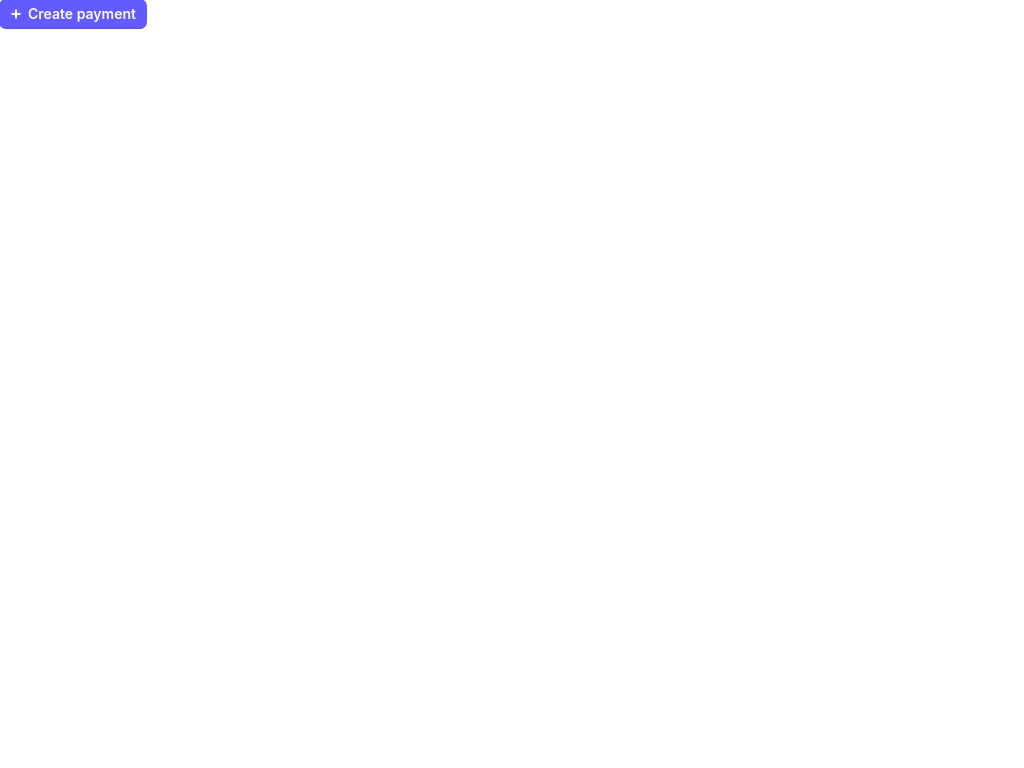
it: CreatePaymentButton › shows the API’s field errors on the matching inputs
Click the button with test id "create-payment". click: (73, 14)
box: [0, 0, 146, 28]
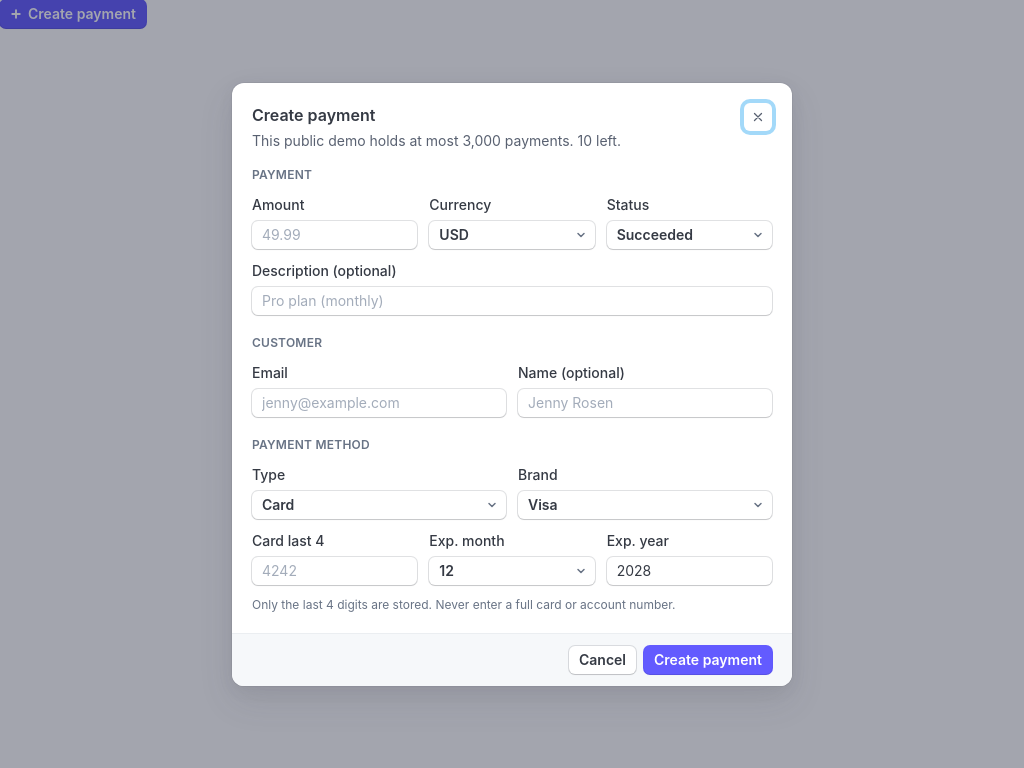
Type "10" into the field labelled "Amount". click: (335, 234)
box: [260, 220, 409, 248]
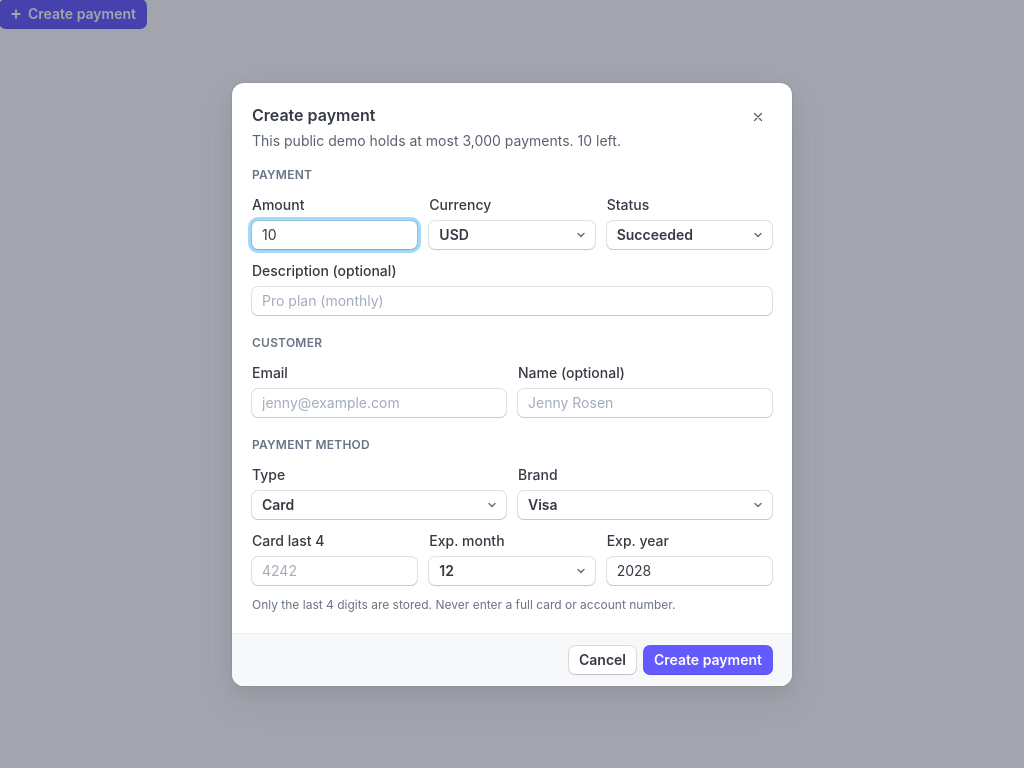
Type "a@b.co" into the field labelled "Email". click: (379, 402)
box: [260, 388, 498, 416]
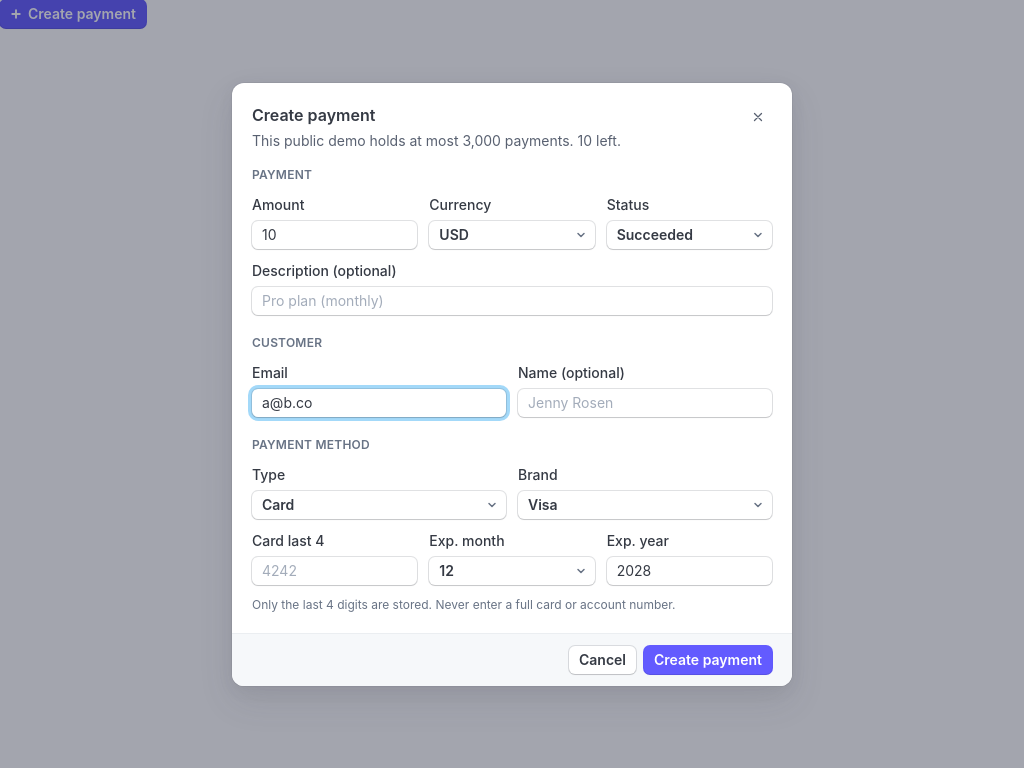
Type "1111" into the field labelled "Card last 4". click: (335, 570)
box: [260, 556, 409, 584]
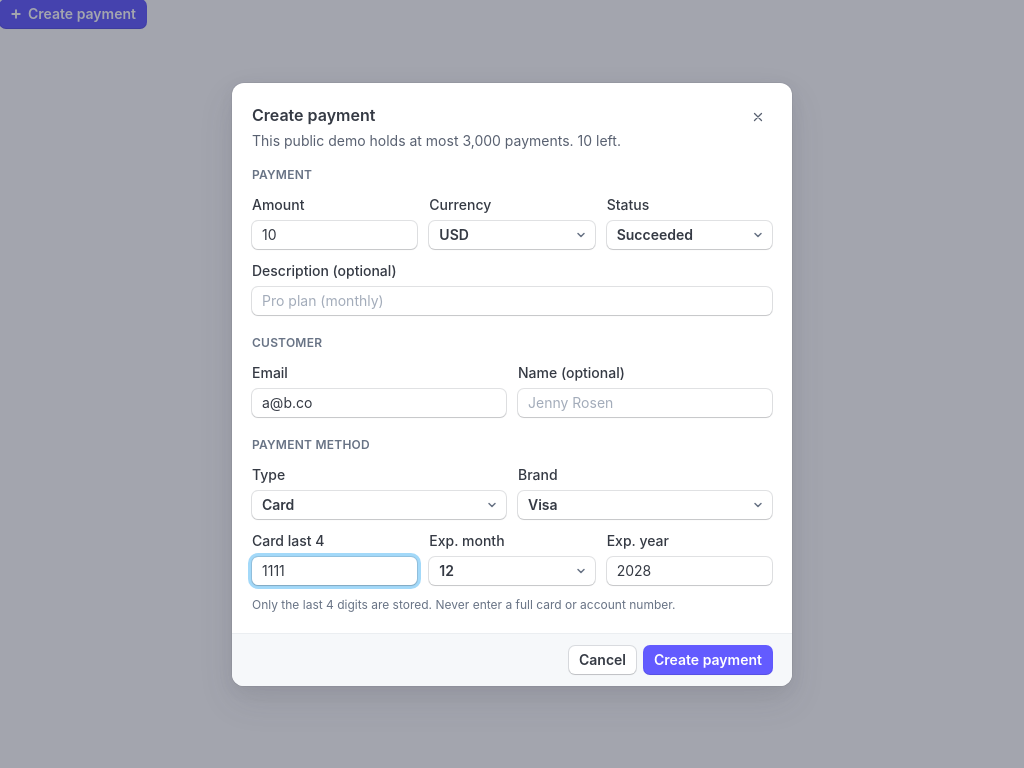
Click the button "Create payment" below "Exp. month". click: (708, 660)
box: [644, 646, 772, 674]
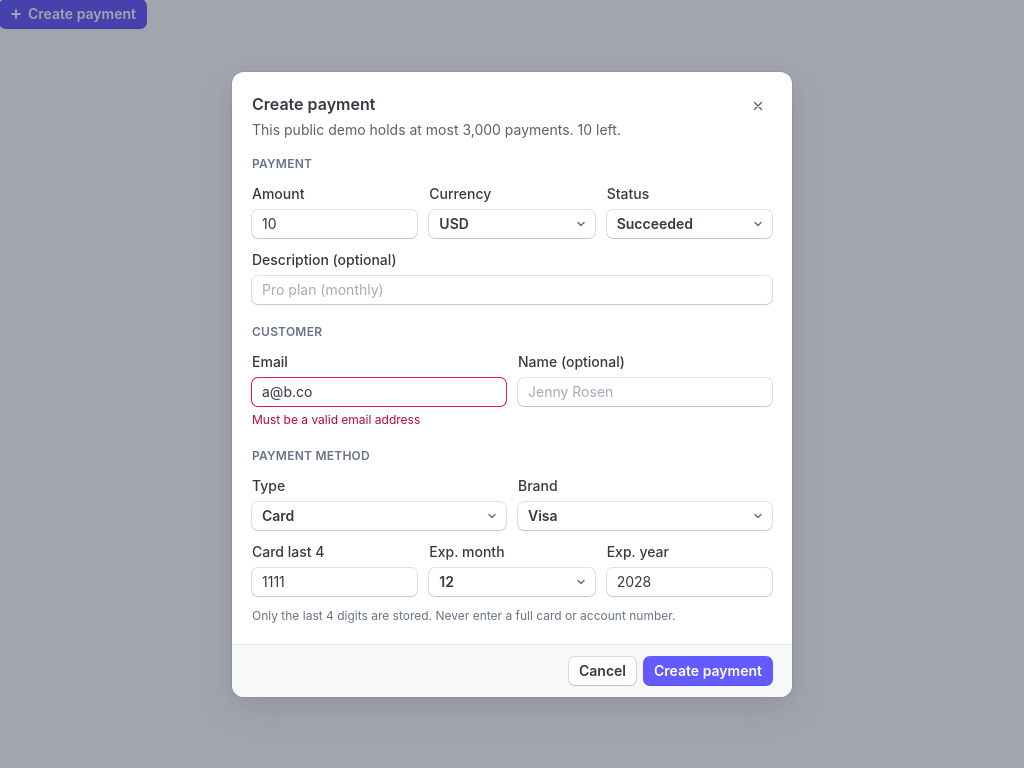
Expected: the text "Must be a valid email address" is shown, [252, 412, 420, 426]
